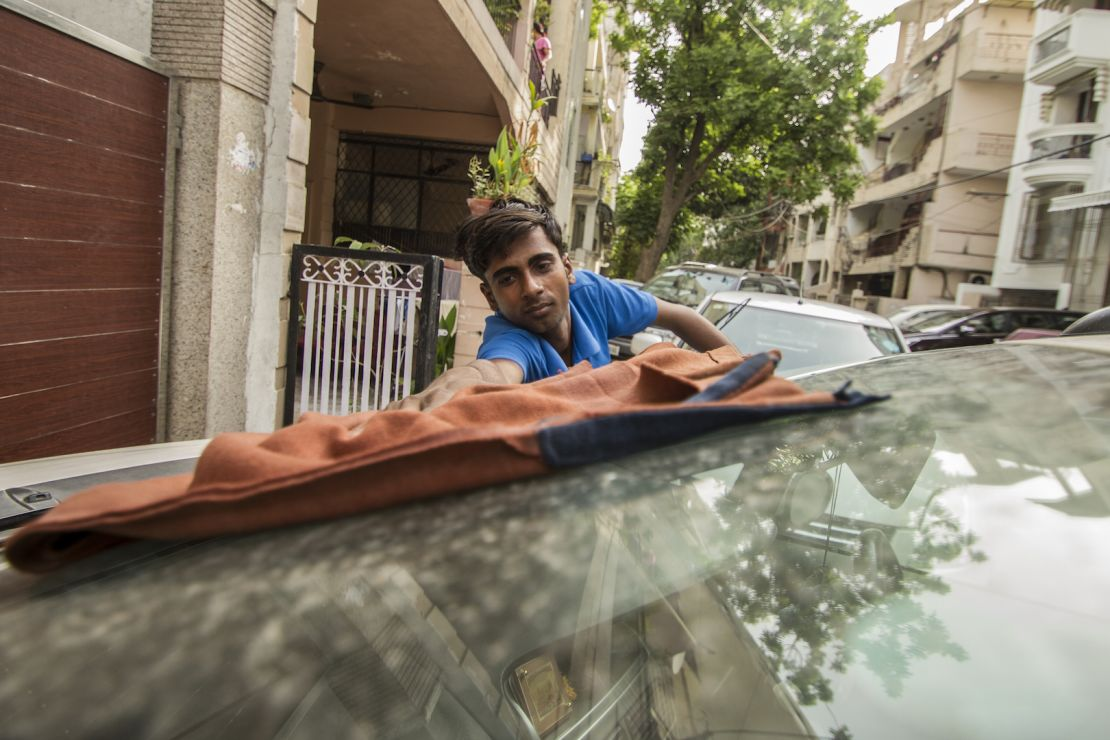person: (469, 222, 572, 341)
